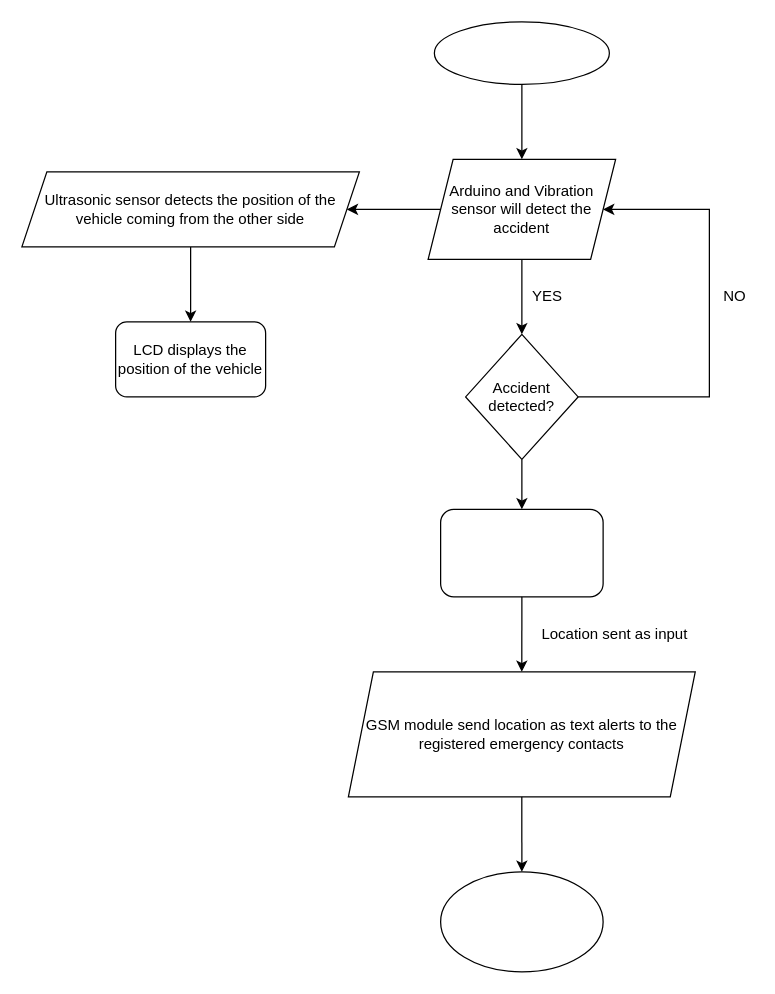
The diagram is 775 pixels wide and 994 high, and some of its shapes have lost their labels. Each missing label, with the box of its shape:
Arduino uses GPS to pinpoint the location: (439, 508, 603, 597)
END: (439, 871, 603, 972)
START: (433, 21, 609, 84)
